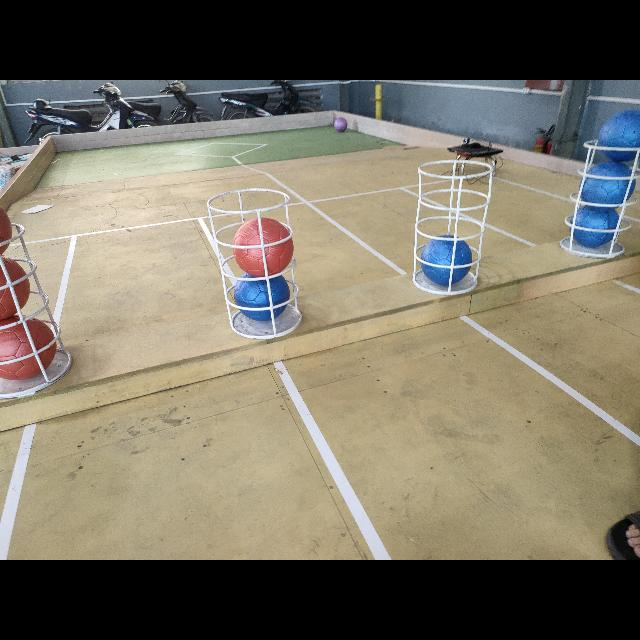B: (420, 234, 472, 286), (578, 160, 632, 210), (234, 270, 288, 320), (570, 202, 616, 248), (600, 109, 640, 161)
R: (0, 317, 60, 378), (234, 218, 294, 274), (0, 256, 30, 314), (0, 196, 12, 248)
